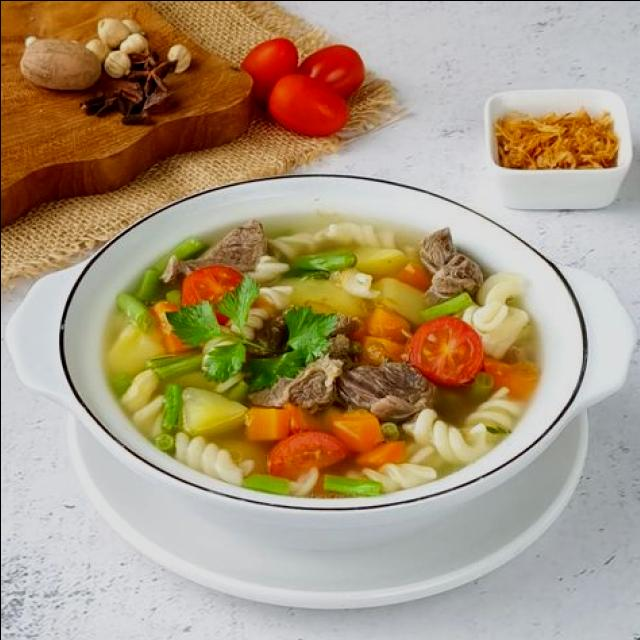sop: (92, 194, 558, 512)
